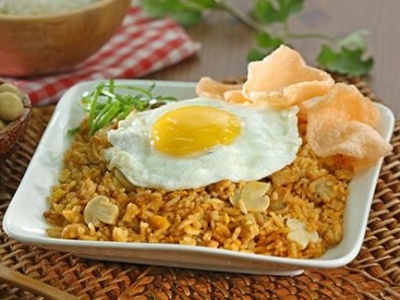nasigoreng: (85, 90, 328, 245)
